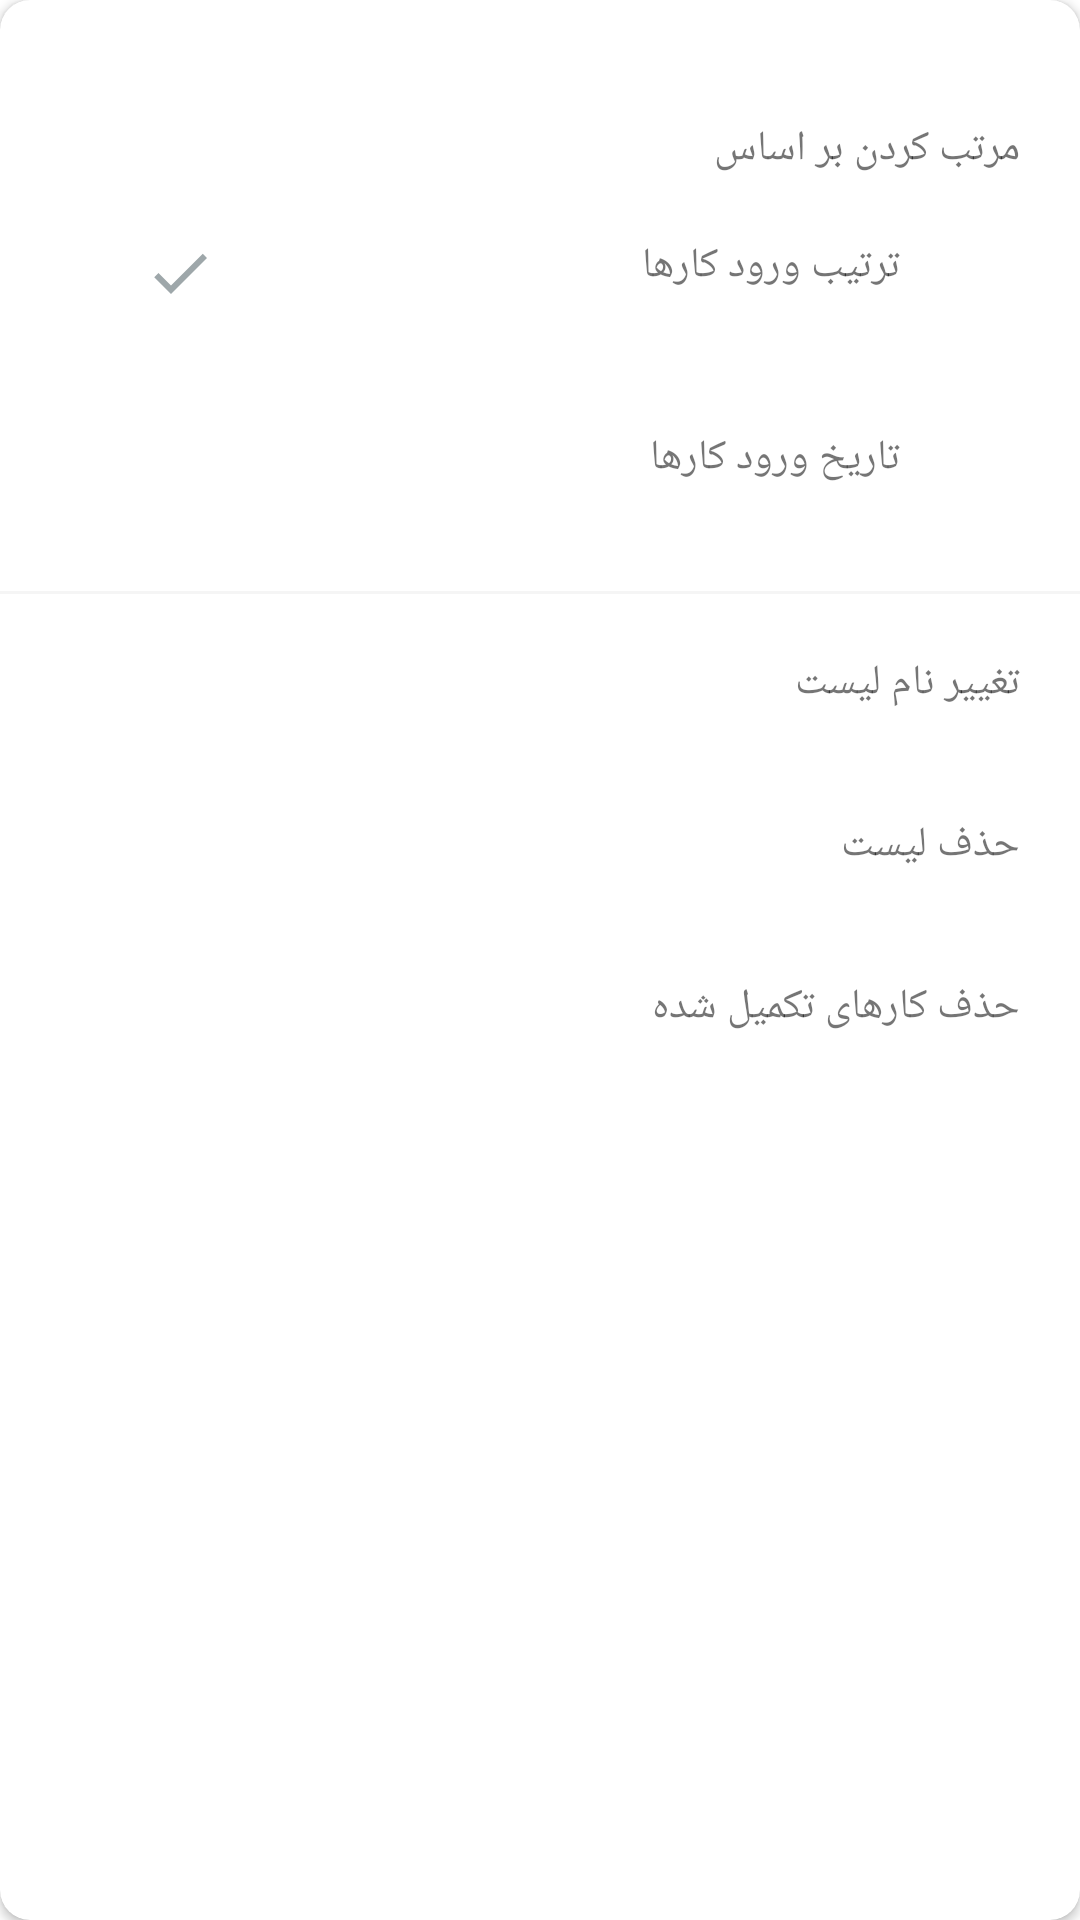

Screen size 1080*1920. Icon name, then its center in pixels as (x,y):
check: (180,274)
